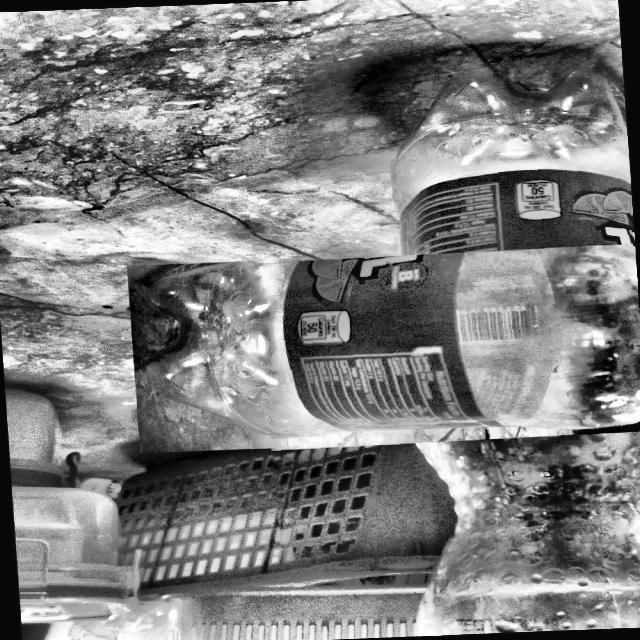Plastic-Bottle: (247, 148, 640, 547)
